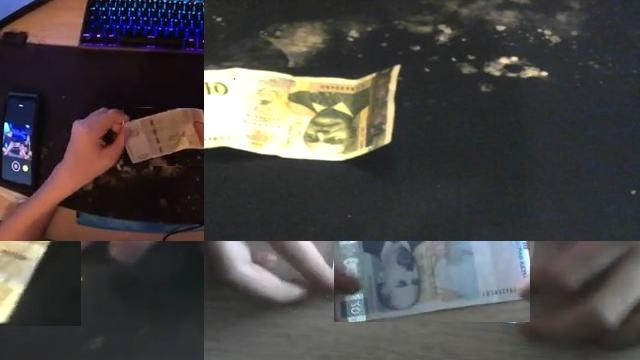10leva: (287, 81, 377, 155), (204, 79, 235, 104)
20leva: (334, 241, 530, 322)
50leva: (124, 108, 204, 166)
